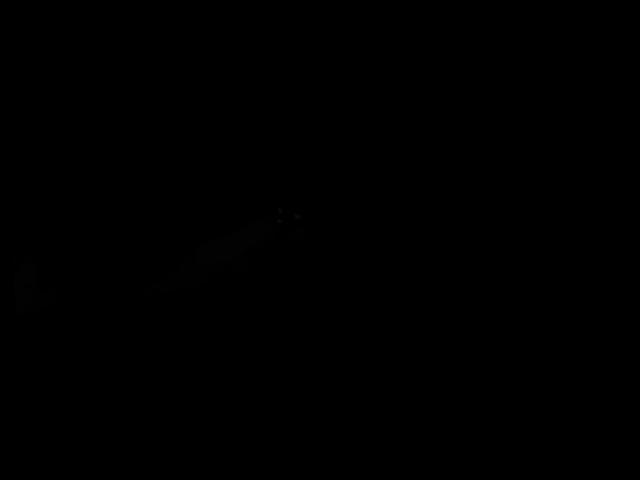hedef: (263, 191, 333, 260)
